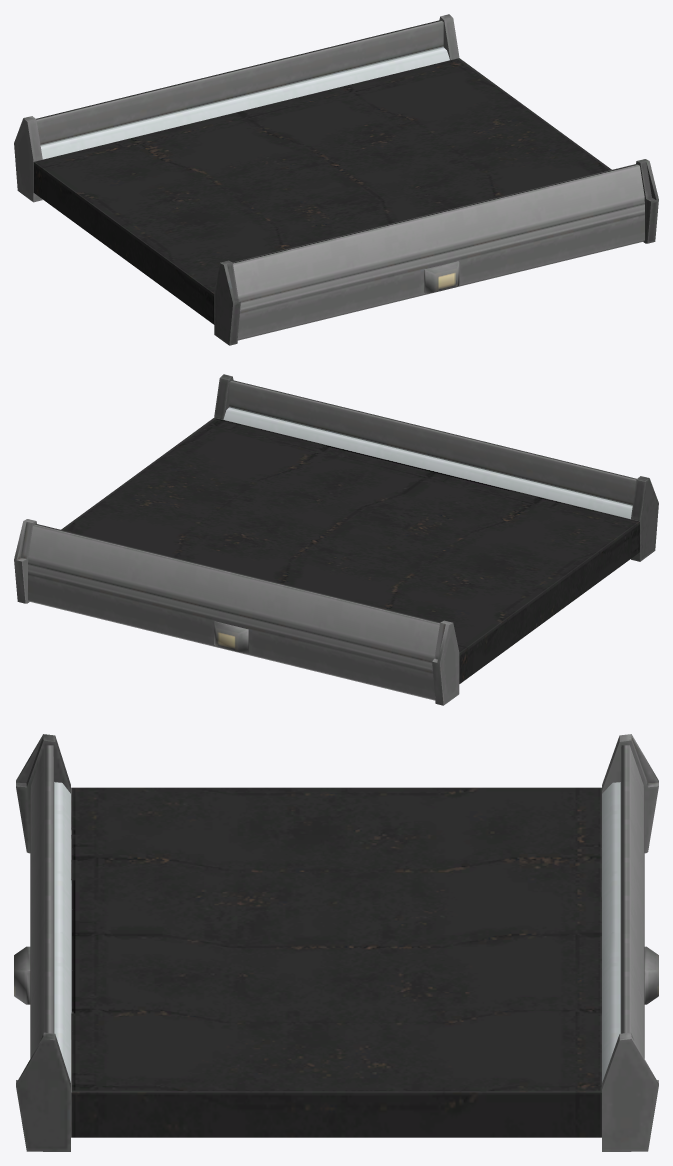
File: belt-mk2.glb
The picture shows the model from 3 angles, top to bottom: view 1: azimuth 30°, elevation 25°; view 2: azimuth 150°, elevation 25°; view 3: azimuth 270°, elevation 25°; orthographic projection. The views are drawn at different scales.
Parts seen in each view (by area): view 1: SM_ConveyorBelt_Mk2; view 2: SM_ConveyorBelt_Mk2; view 3: SM_ConveyorBelt_Mk2.
Boxes of the visible parts, left/top/right/bottom form: SM_ConveyorBelt_Mk2: left=14, top=14, right=658, bottom=345; SM_ConveyorBelt_Mk2: left=14, top=374, right=658, bottom=705; SM_ConveyorBelt_Mk2: left=14, top=734, right=658, bottom=1151.
Size of the model in its own units: 2 by 0.3452 by 1.79.
Materials: 1 (1 with a texture image).
